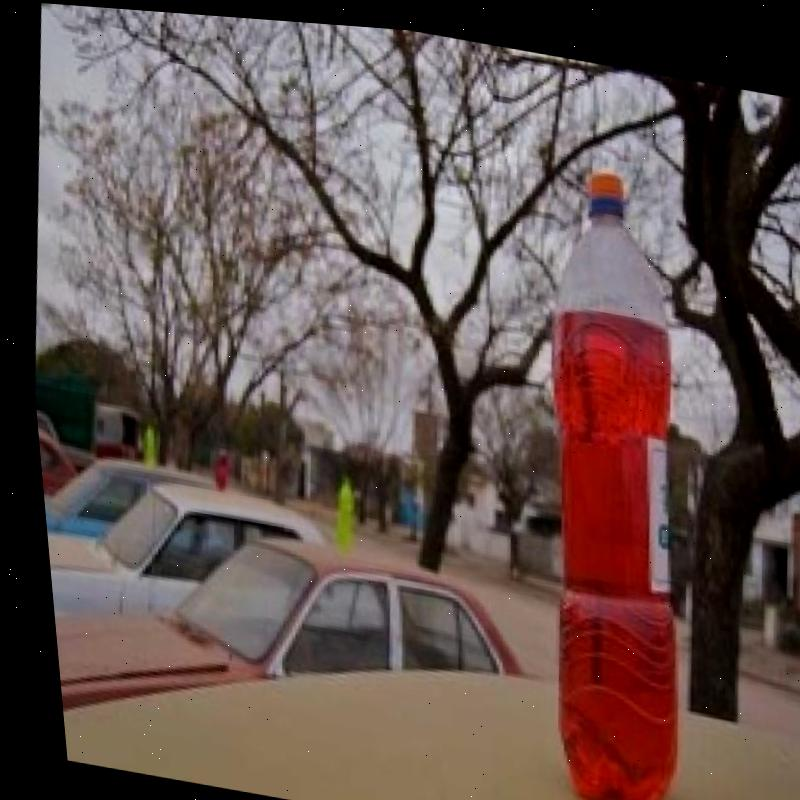botella: (480, 147, 726, 800)
